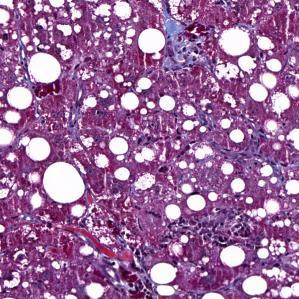fibrosis: (159, 22, 206, 72)
